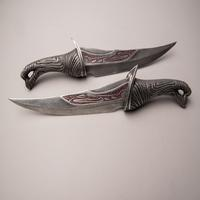knife: (5, 69, 193, 126), (16, 38, 178, 85)
